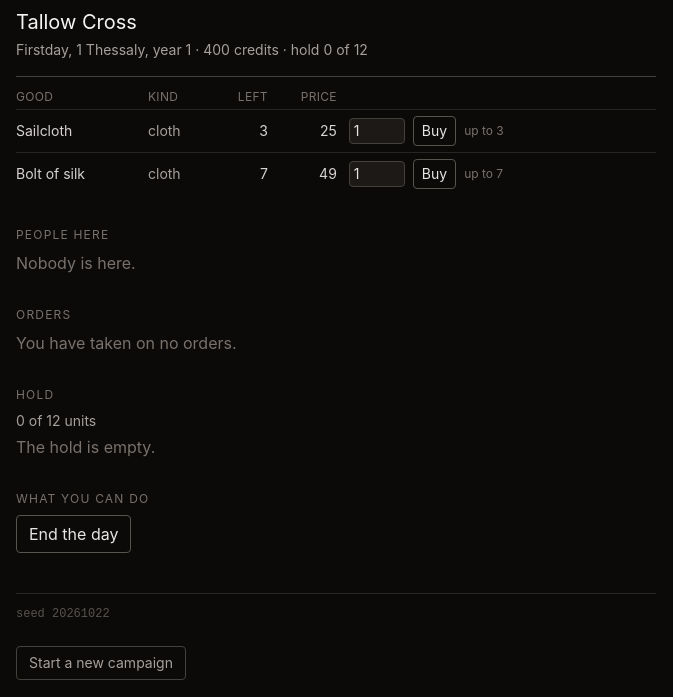
Scenario: saving and resuming a campaign › says so when the campaign cannot be saved, and plays on
The width and height of the screenshot is (673, 697).
(page scrolled)
Click the button "End the day": (74, 534) [16,515,131,553]
(page scrolled)
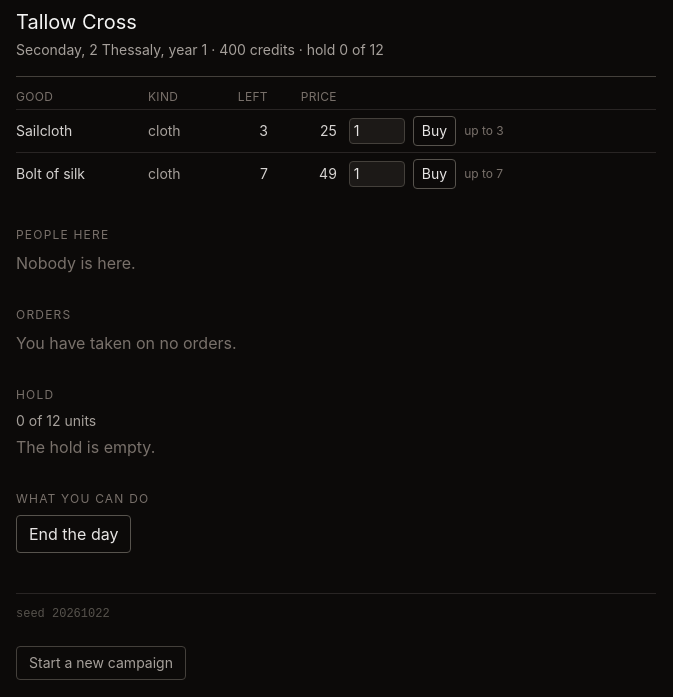
Expected: the text "Seconday, 2 Thessaly, year 1 · 400 credits · hold 0 of 12" is shown, [16,41,384,58]
